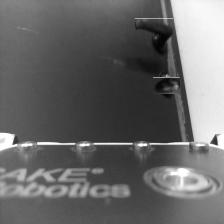Door Handle: (135, 18, 173, 55)
Lock: (155, 75, 178, 98)
